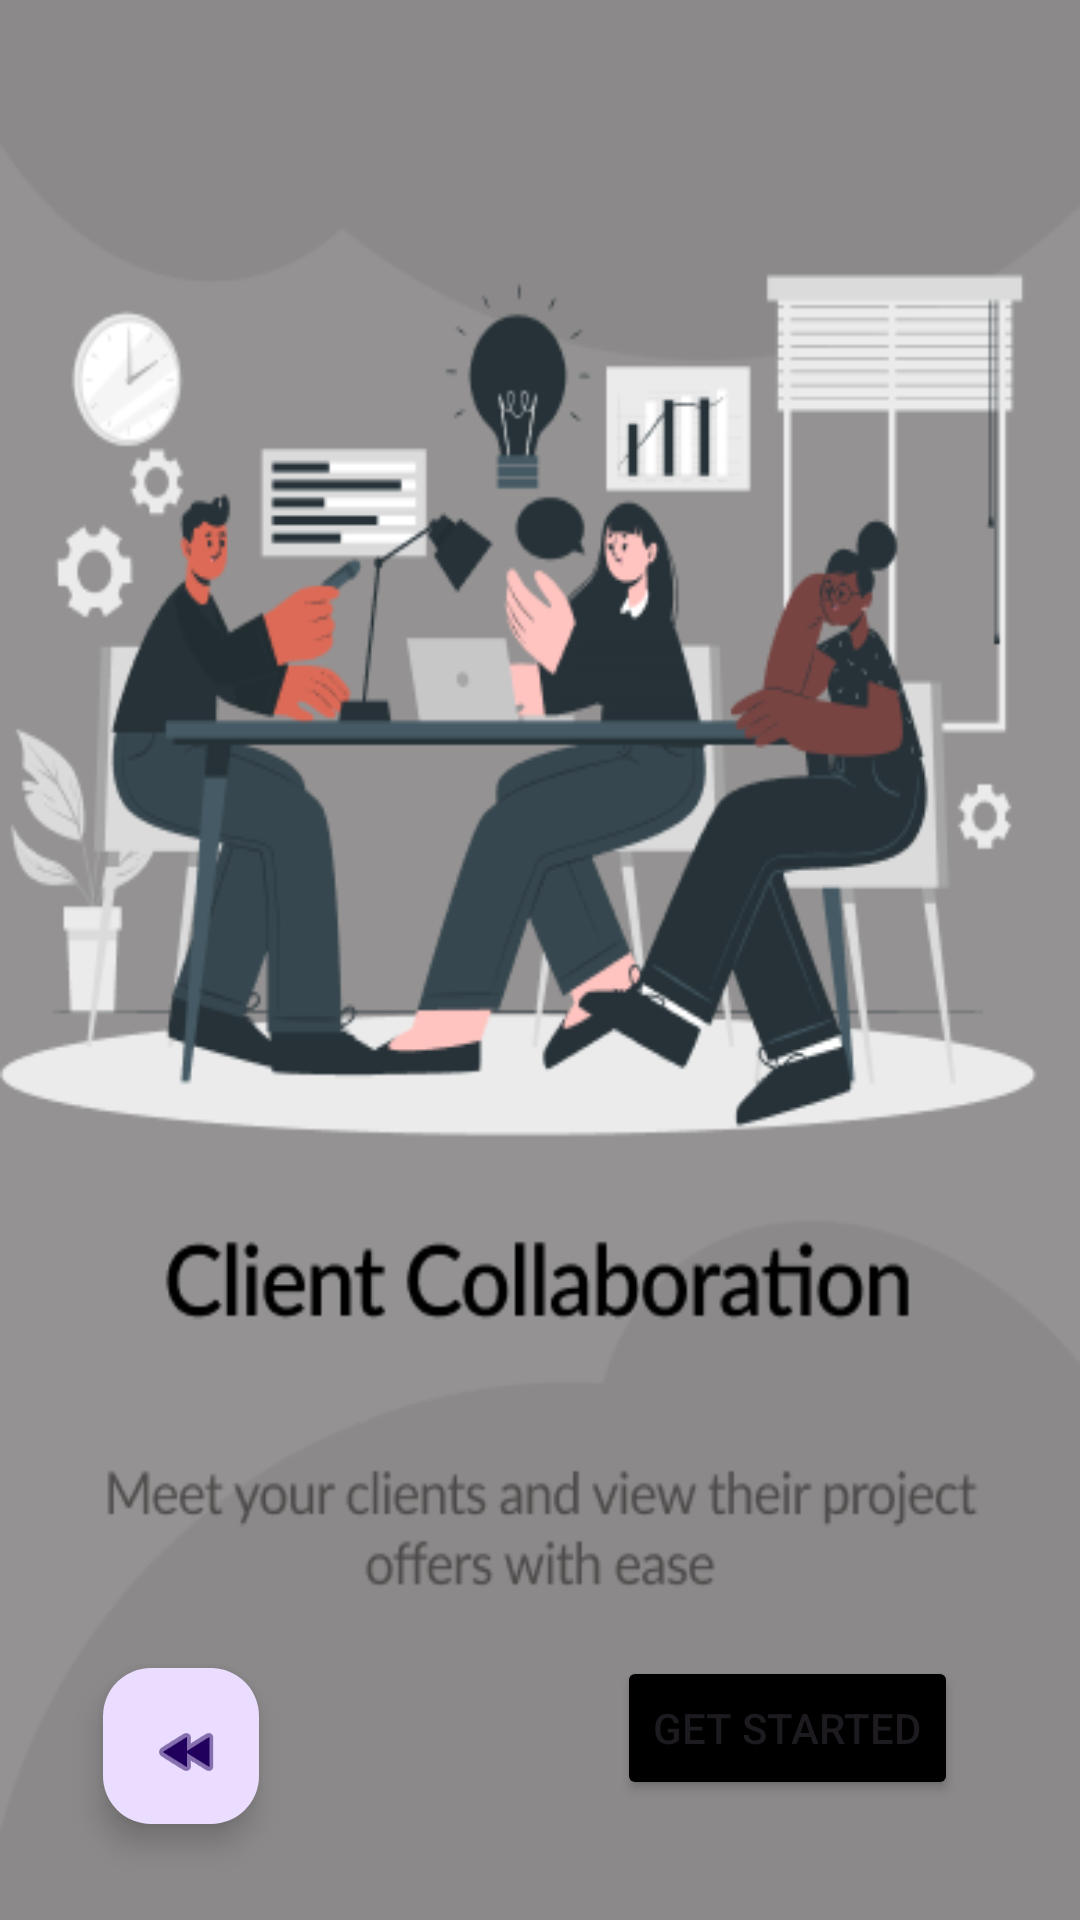

Named icons in this screenshot (1080*1920) and their centers, (x=x, y=y):
Back: (x=181, y=1746)
